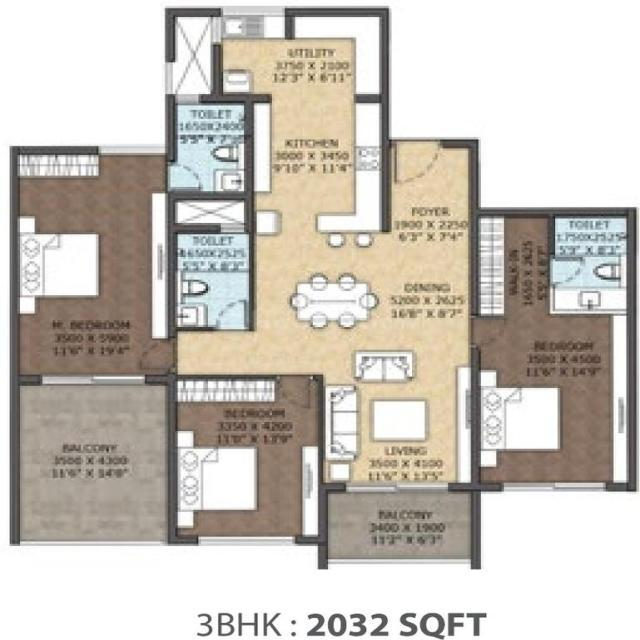Balcony-Sitout: (9, 371, 177, 544), (318, 487, 481, 562)
Bedroom: (10, 145, 174, 379), (163, 371, 324, 544)
Bedroom with Toilet: (470, 206, 637, 491)
Dining: (287, 268, 381, 333)
Enterance-Foyer: (386, 138, 481, 237)
Kitchen: (245, 93, 390, 233)
Living: (317, 371, 479, 493)
Toilet: (165, 191, 256, 328), (165, 96, 254, 198), (545, 209, 630, 315)
Utility: (210, 35, 356, 105)
